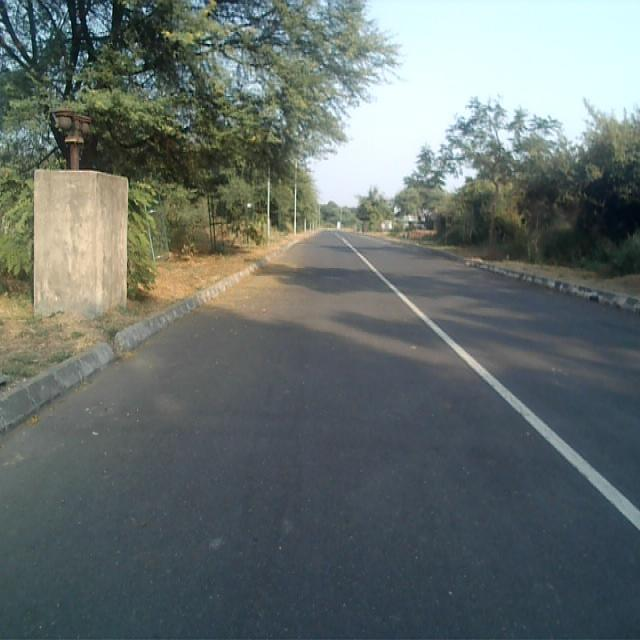lane: (0, 232, 640, 640)
